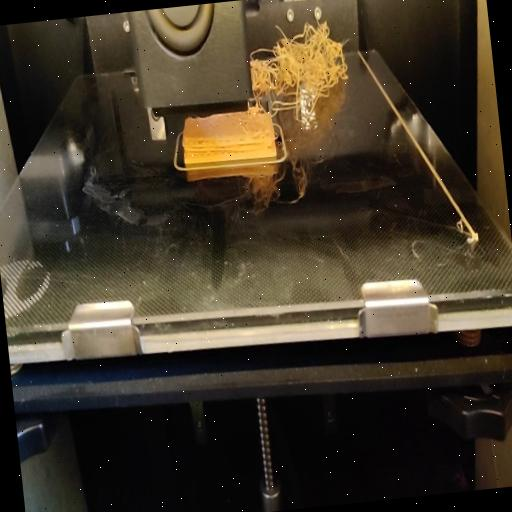spaghetti: (246, 16, 354, 120)
